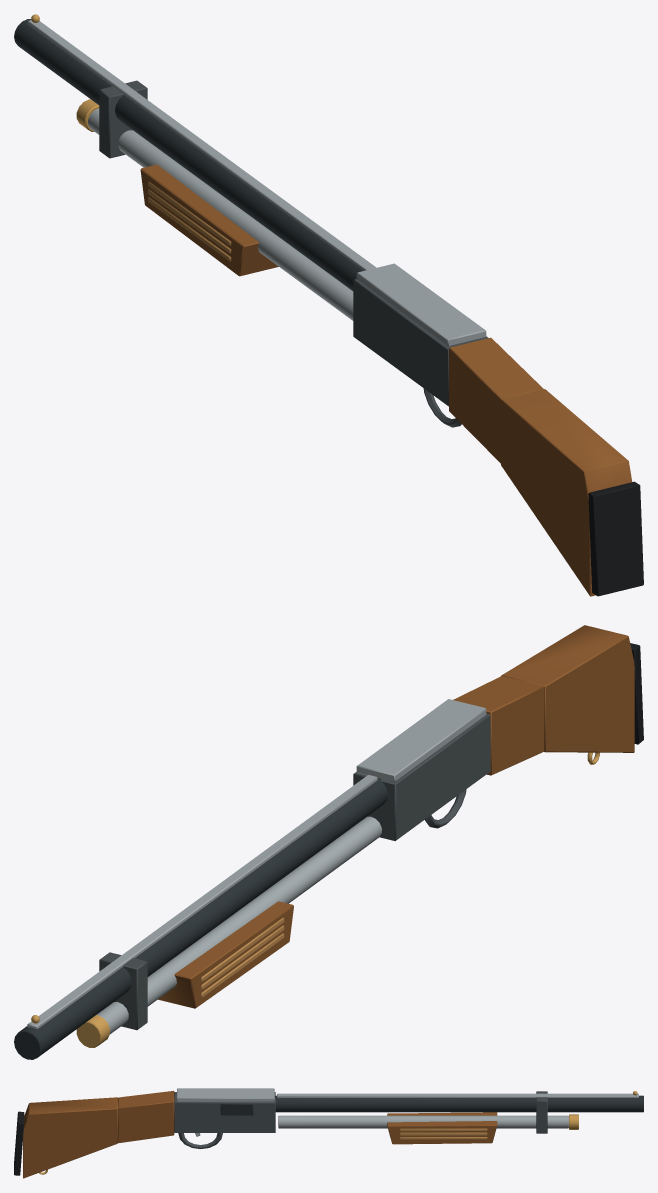
File: W_FusilPompe.glb
3 views of the same model, one above another, from view 1: azimuth 30°, elevation 25°; view 2: azimuth 150°, elevation 25°; view 3: azimuth 270°, elevation 25° (orthographic). The views are drawn at different scales.
Parts seen in each view (by area): view 1: W_FusilPompe; view 2: W_FusilPompe; view 3: W_FusilPompe.
Boxes of the visible parts, box(x1,y1,x2,y2) form: W_FusilPompe: box(14, 14, 643, 596); W_FusilPompe: box(14, 625, 643, 1059); W_FusilPompe: box(14, 1088, 643, 1178).
Bounding box in the file's own units: 0.0536 × 0.1474 × 1.01.
